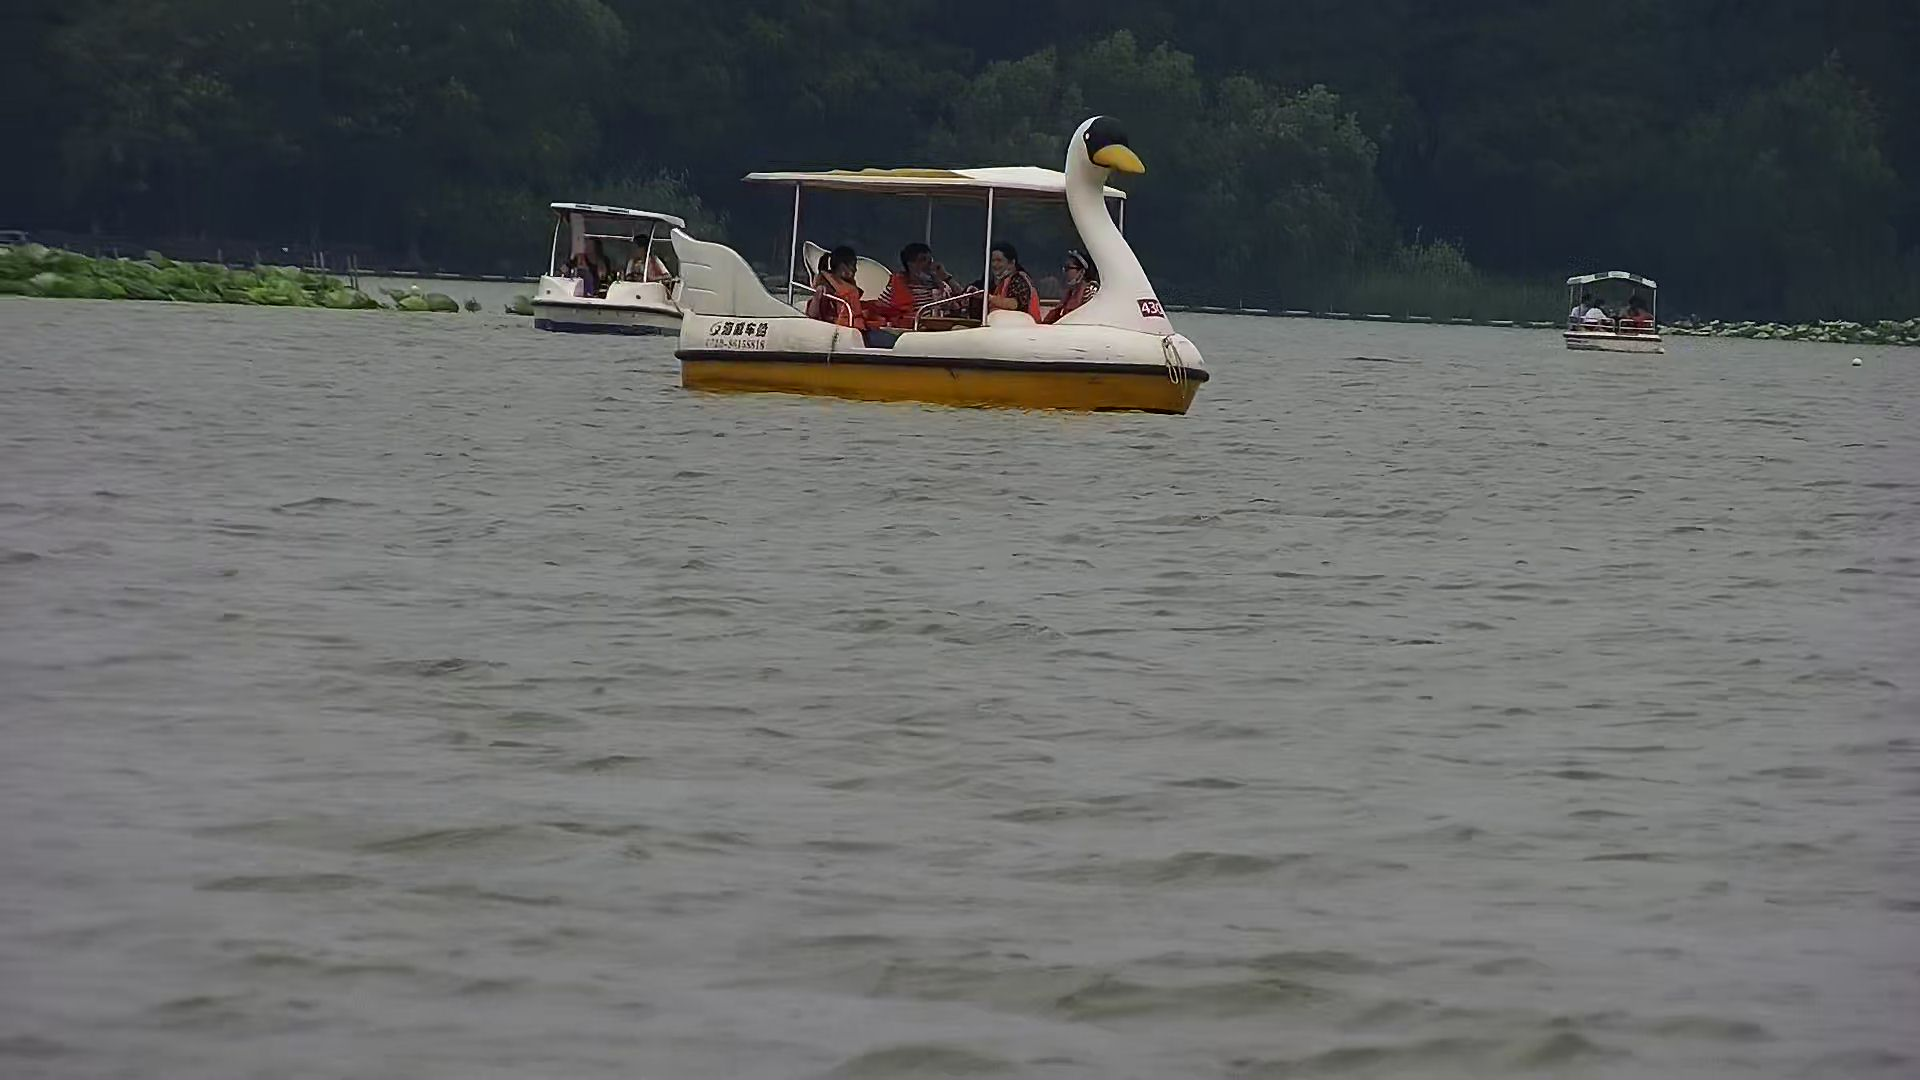boat: (675, 116, 1215, 410), (530, 198, 686, 334), (1561, 263, 1668, 363)
person: (809, 235, 869, 346), (897, 249, 959, 340), (985, 240, 1042, 326), (1059, 246, 1100, 322)
